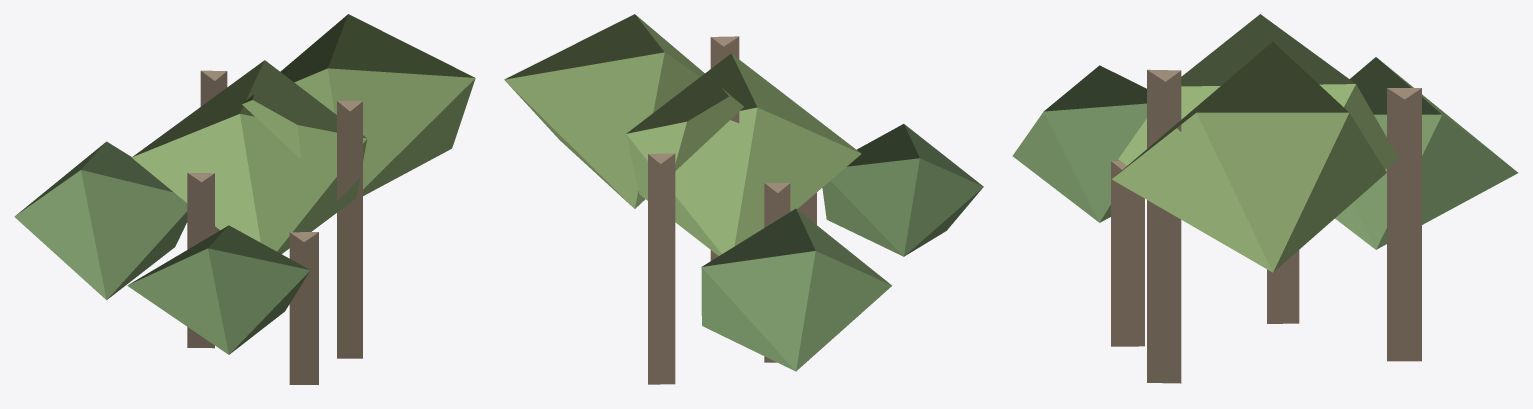
Rendered from shrub.sub.arid_bush__spring.glb.
The picture shows the model from 3 angles, left to right: view 1: azimuth 30°, elevation 25°; view 2: azimuth 150°, elevation 25°; view 3: azimuth 270°, elevation 25°; orthographic projection. The views are drawn at different scales.
Visible parts, largest first — view 1: shrub.sub.arid_bush__spring; view 2: shrub.sub.arid_bush__spring; view 3: shrub.sub.arid_bush__spring.
Boxes of the visible parts, <box> form: shrub.sub.arid_bush__spring: <box>14,14,475,384</box>; shrub.sub.arid_bush__spring: <box>504,14,983,384</box>; shrub.sub.arid_bush__spring: <box>1012,14,1517,383</box>.
Size of the model in its own units: 1.76 by 1.31 by 1.61.
